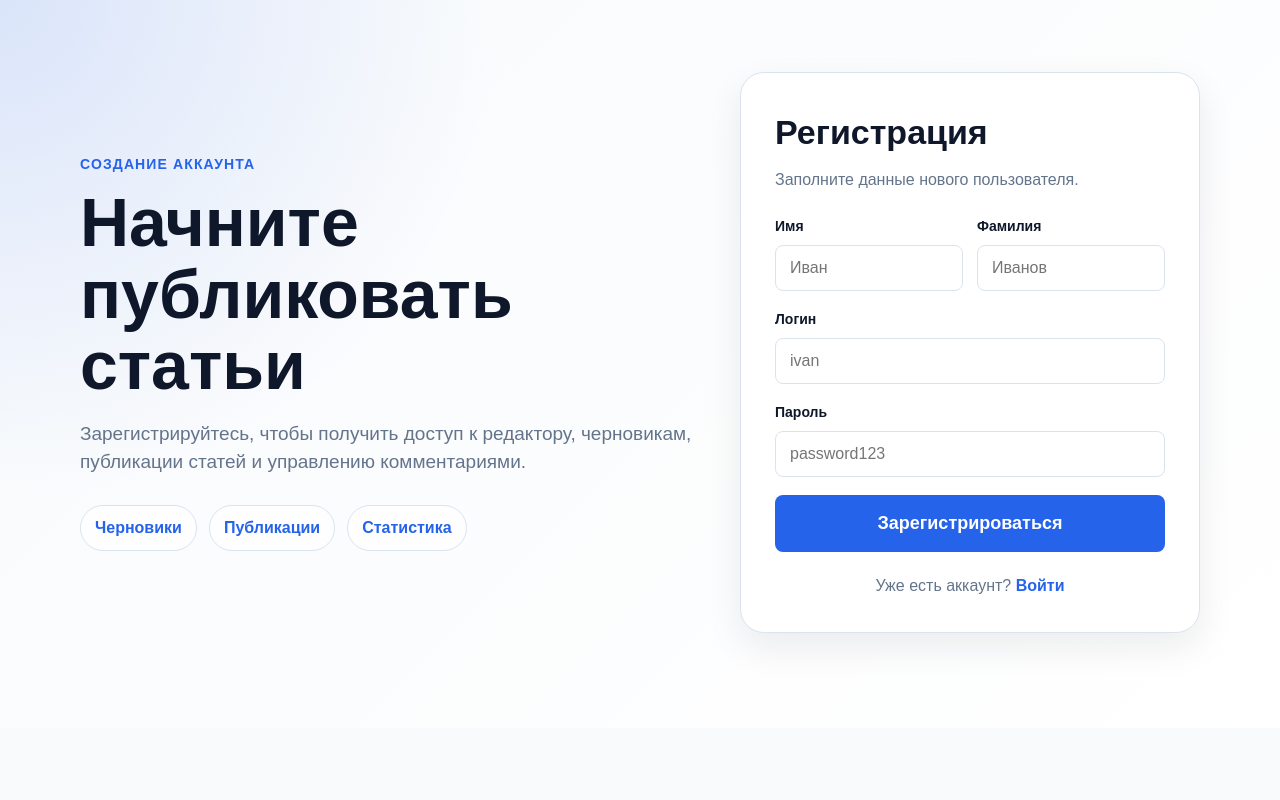
RegisterPage › показывает ошибку, если имя не заполнено
Click the button "Зарегистрироваться": (970, 524) [775,495,1165,552]
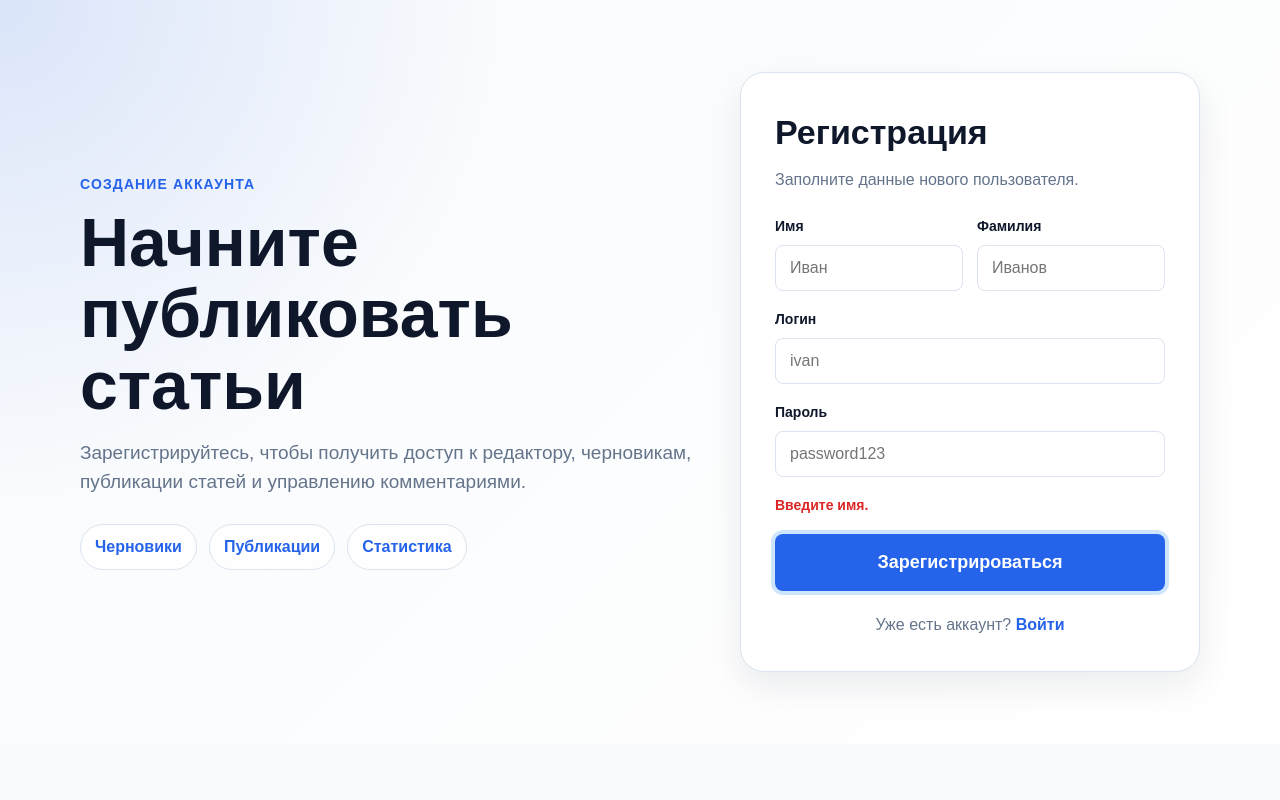
Check: the text "Введите имя." is shown, box [775,497,868,513]
